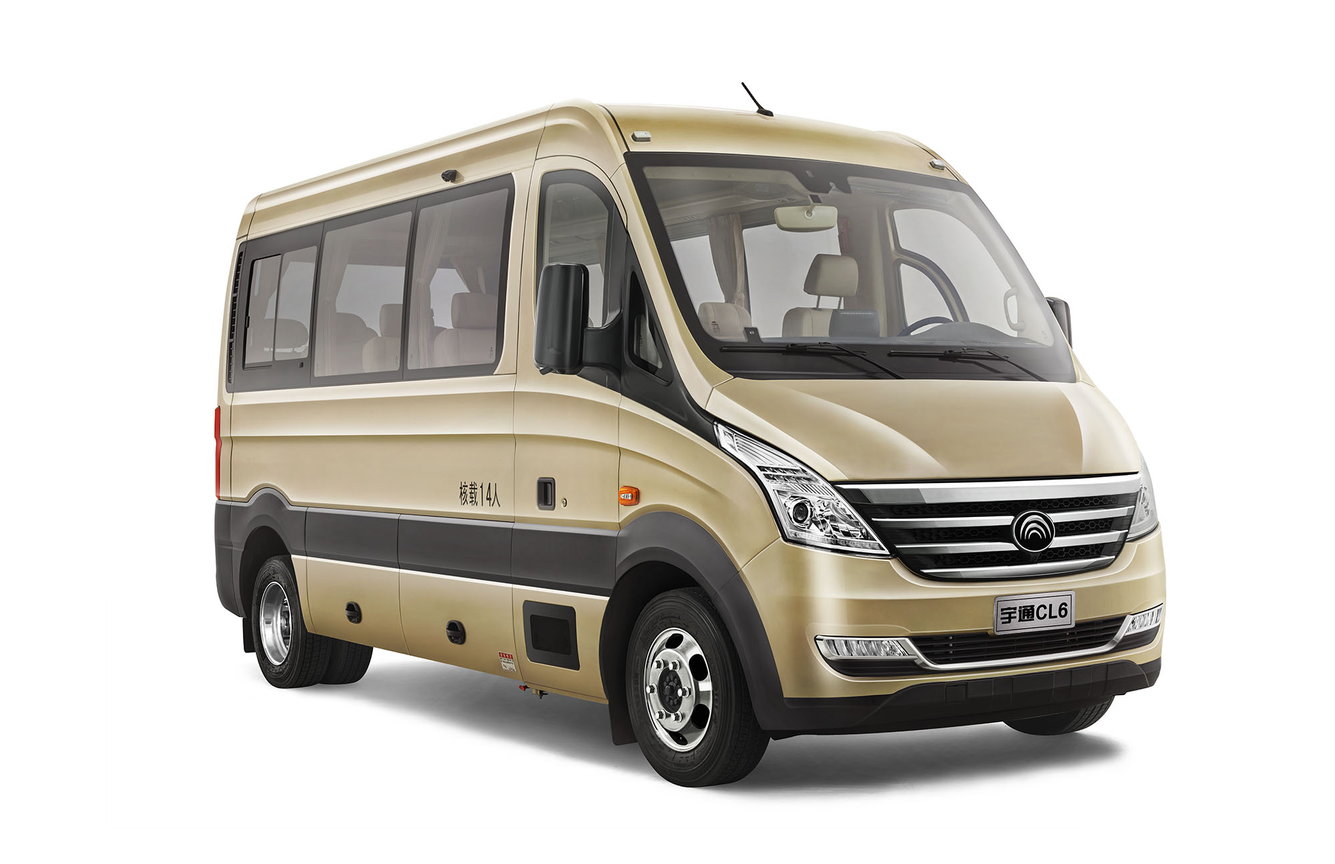midcar: (214, 112, 1232, 802)
